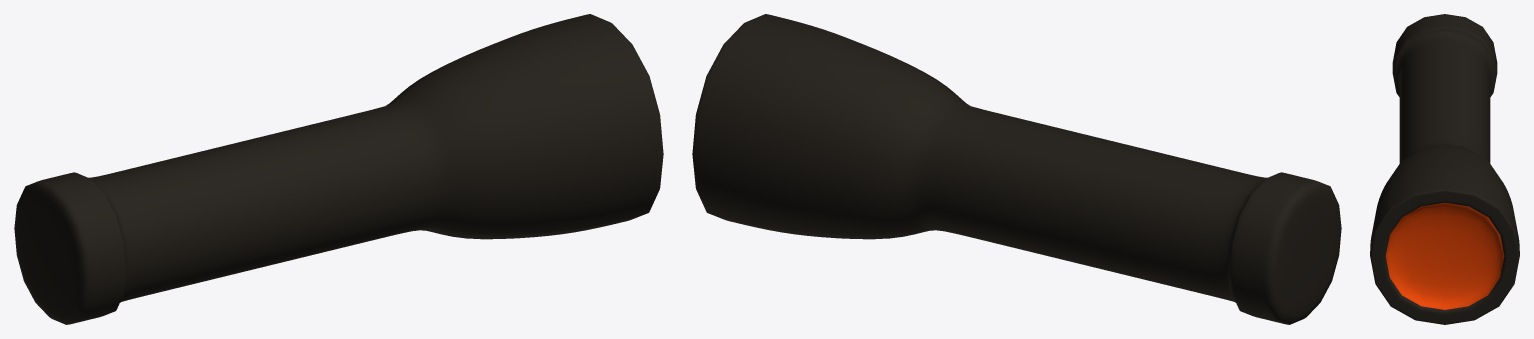
File: Flashlight.fbx
3 views of the same model, side by side, from view 1: azimuth 30°, elevation 25°; view 2: azimuth 150°, elevation 25°; view 3: azimuth 270°, elevation 25° (orthographic). The views are drawn at different scales.
Visible parts, largest first — view 1: Flashlight; view 2: Flashlight; view 3: Flashlight.
Part boxes in pixels (bbox=[...]): Flashlight: bbox=[14, 14, 663, 324]; Flashlight: bbox=[692, 14, 1341, 324]; Flashlight: bbox=[1370, 14, 1519, 324].
Bounding box in the file's own units: 73.82 × 231 × 73.82.
